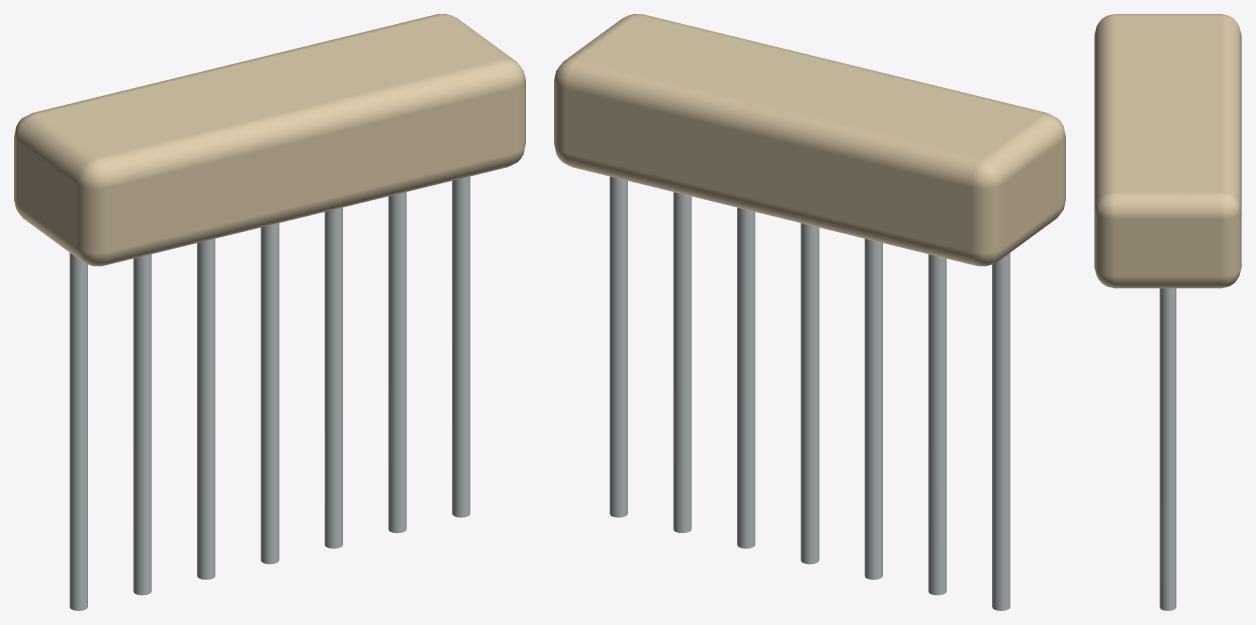
Rendered from cheesemaking-and-dairy-cellar-cheese-piercing-tool-93fab660__30890.glb.
The picture shows the model from 3 angles, left to right: view 1: azimuth 30°, elevation 25°; view 2: azimuth 150°, elevation 25°; view 3: azimuth 270°, elevation 25°; orthographic projection. The views are drawn at different scales.
Visible parts, largest first — view 1: cheese-piercing-tool; view 2: cheese-piercing-tool; view 3: cheese-piercing-tool.
Boxes of the visible parts, x1=… form: cheese-piercing-tool: x1=14, y1=14, x2=525, y2=610; cheese-piercing-tool: x1=554, y1=14, x2=1065, y2=610; cheese-piercing-tool: x1=1094, y1=14, x2=1241, y2=610.
Bounding box in the file's own units: 0.14 × 0.142 × 0.045.
